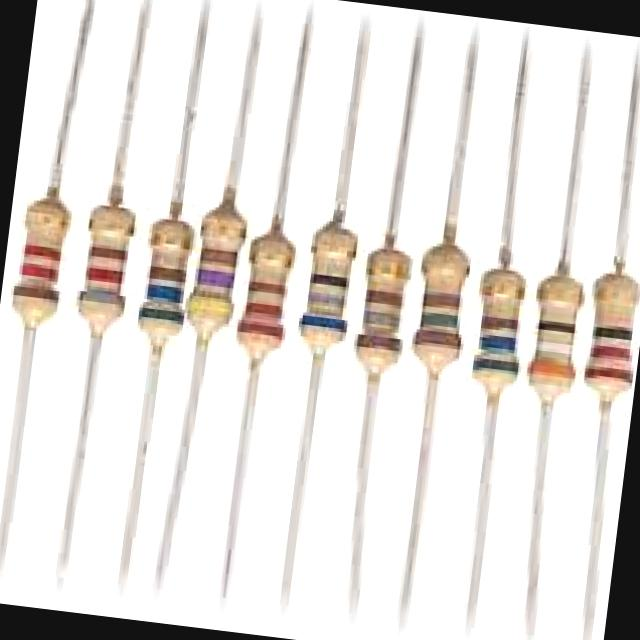Resistor: (185, 199, 246, 345), (297, 221, 357, 352), (526, 273, 584, 405), (236, 229, 294, 361), (411, 241, 469, 373), (137, 217, 193, 350), (12, 195, 68, 327), (78, 203, 134, 335), (356, 245, 411, 375), (586, 274, 640, 404), (471, 268, 525, 398)
black: (593, 328, 633, 343), (310, 274, 346, 288)
blue: (298, 312, 346, 332), (146, 283, 183, 302), (479, 334, 515, 352)
brown: (420, 292, 461, 312), (88, 245, 130, 262), (200, 249, 236, 266), (149, 266, 184, 282), (366, 291, 402, 306), (483, 318, 516, 330)
gold: (534, 290, 582, 306), (480, 283, 523, 300), (364, 262, 408, 276), (148, 236, 192, 249), (315, 245, 355, 259), (534, 340, 572, 354), (202, 226, 246, 238), (247, 255, 294, 266)
orange: (530, 362, 574, 378)
purple: (197, 268, 234, 286), (306, 292, 347, 308)
red: (237, 320, 281, 339), (584, 366, 631, 382), (19, 262, 57, 280), (589, 344, 628, 360), (248, 278, 284, 295), (245, 301, 281, 317), (85, 267, 121, 282), (24, 244, 60, 259)
